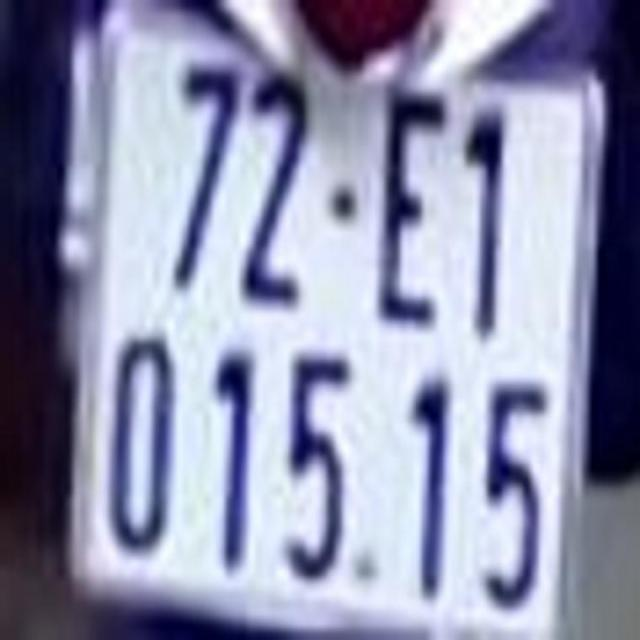0: (113, 342, 170, 552)
1: (206, 342, 258, 582), (462, 109, 503, 334), (412, 368, 449, 603)
2: (243, 78, 309, 308)
5: (482, 373, 548, 610), (288, 352, 343, 578)
7: (171, 73, 237, 287)
E: (383, 96, 444, 326)
